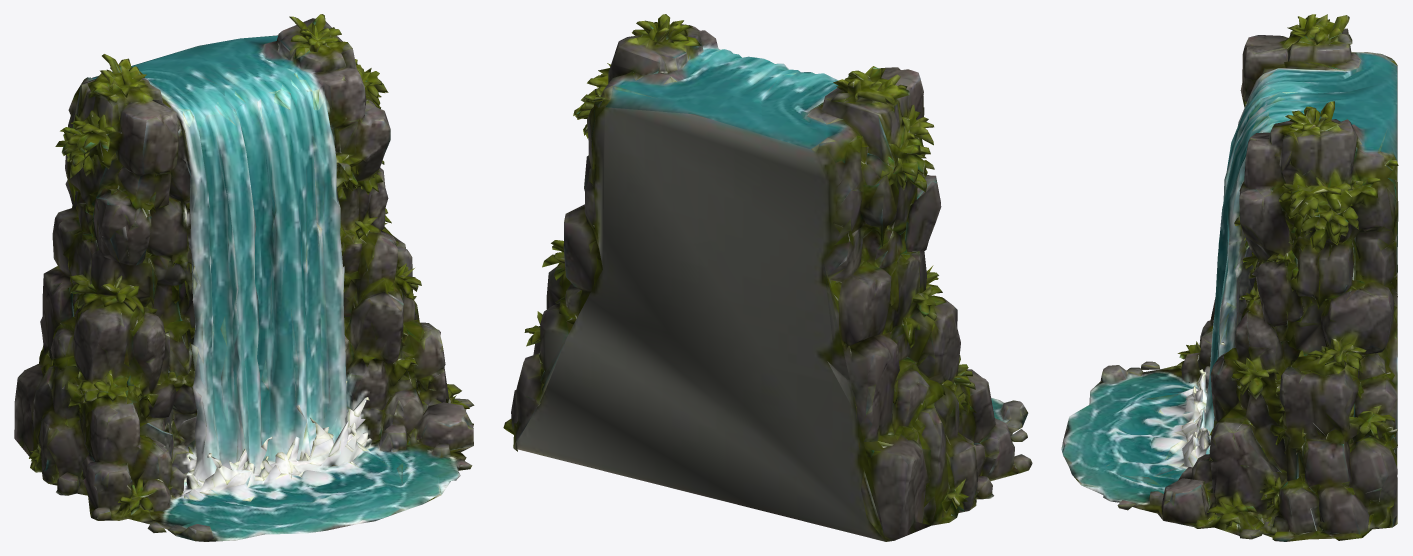
File: waterfall.glb
The picture shows the model from 3 angles, left to right: view 1: azimuth 30°, elevation 25°; view 2: azimuth 150°, elevation 25°; view 3: azimuth 270°, elevation 25°; orthographic projection. The views are drawn at different scales.
Visible parts, largest first — view 1: Mesh1.0; view 2: Mesh1.0; view 3: Mesh1.0.
Part boxes in pixels (bbox=[...]): Mesh1.0: bbox=[14, 14, 474, 541]; Mesh1.0: bbox=[503, 14, 1032, 541]; Mesh1.0: bbox=[1061, 14, 1398, 541].
Bounding box in the file's own units: 1.9 × 1.74 × 1.41.
Materials: 1 (1 with a texture image).
